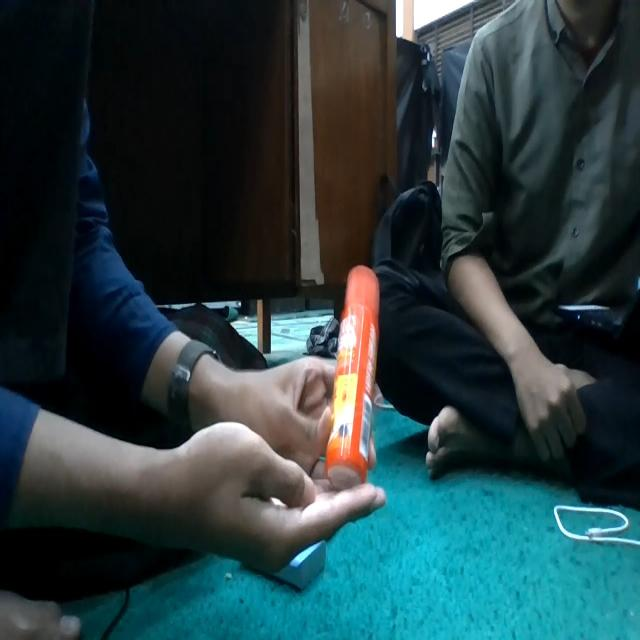Boncabe: (326, 266, 378, 482)
Powerbank: (267, 541, 326, 590)
